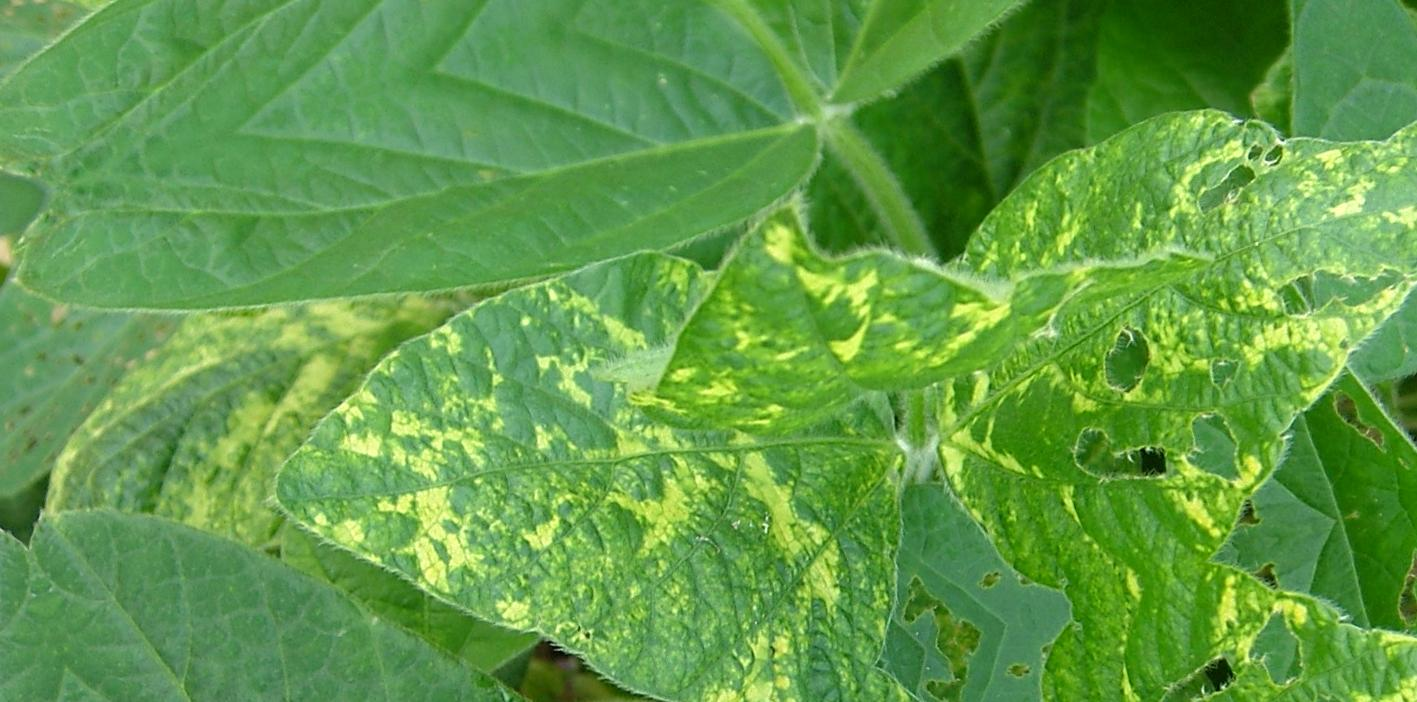Tomato leaf: (23, 0, 840, 434)
Tomato leaf mosaic virus: (854, 28, 1417, 629), (274, 216, 954, 702)
